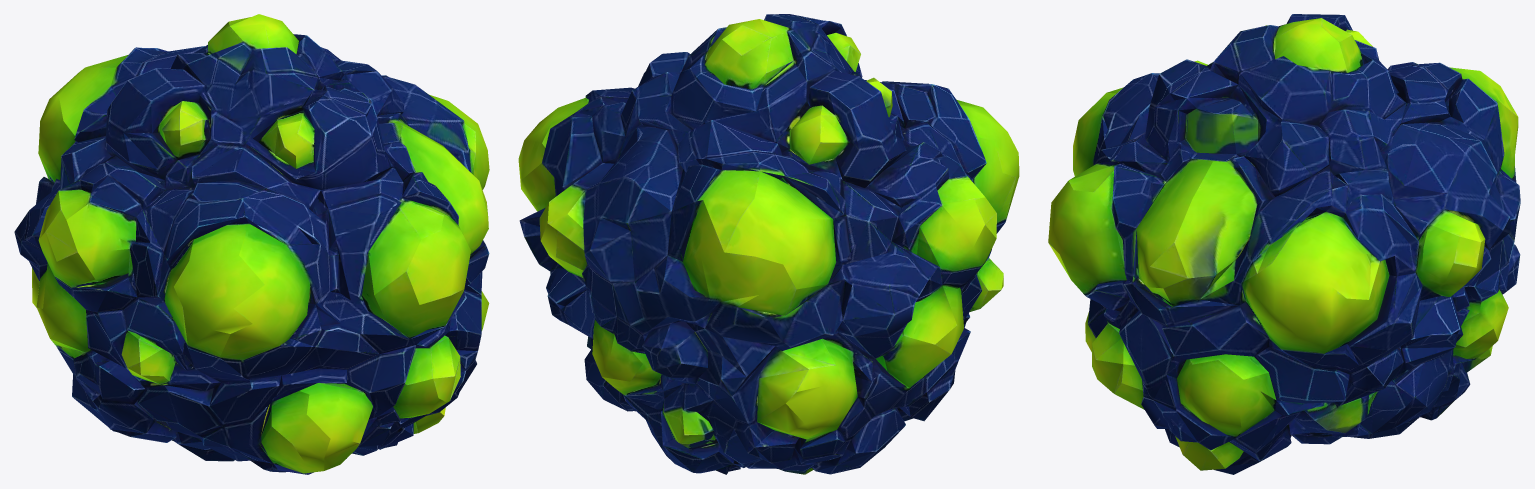
3 renders of one model, left to right at view 1: azimuth 30°, elevation 25°; view 2: azimuth 150°, elevation 25°; view 3: azimuth 270°, elevation 25°, orthographic. The views are drawn at different scales.
Parts seen in each view (by area): view 1: output_unwrapped; view 2: output_unwrapped; view 3: output_unwrapped.
Part boxes in pixels (left/top/right/bottom): output_unwrapped: left=14, top=14, right=489, bottom=474; output_unwrapped: left=518, top=14, right=1019, bottom=474; output_unwrapped: left=1048, top=14, right=1520, bottom=474.
Bounding box in the file's own units: 1.89 × 1.7 × 1.77.
1 material, 1 textured.
